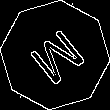M_SE: (21, 21, 89, 89)
